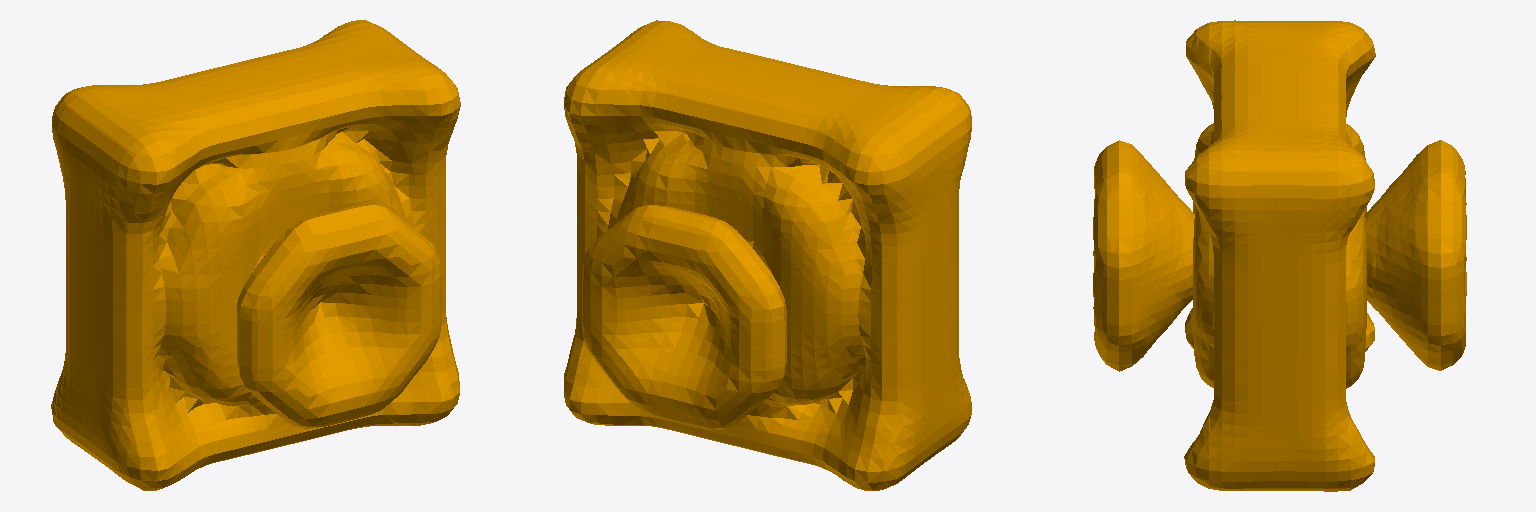
robot.urdf — object:
<?xml version="1.0"?>
        <robot name="object">
          <link name="object">
            <visual>
              <origin xyz="0.0 0.0 0.0"/>
              <geometry>
                <mesh filename="D3.stl" scale="1.00 1.00 1.00"/>
              </geometry>
            </visual>
            <collision>
              <origin xyz="0.0 0.0 0.0"/>
              <geometry>
                <mesh filename="D3.stl" scale="1.00 1.00 1.00"/>
              </geometry>
            </collision>
          </link>
        </robot>

--- Render facts (derived) ---
3 views of the same robot in one strip: view 1: azimuth 30°, elevation 25°; view 2: azimuth 150°, elevation 25°; view 3: azimuth 270°, elevation 25° (orthographic).
Model object with 1 links and 0 joints (none), rooted at object, posed every joint at zero.
Links seen in each view (by area): view 1: object; view 2: object; view 3: object.
Link boxes in pixels (<box>): object: <box>51,20,460,490</box>; object: <box>564,20,971,490</box>; object: <box>1093,20,1466,491</box>.
Size in the robot's own frame: 0.1001 by 0.0994 by 0.1 metres.
1 mesh visuals loaded from 1 distinct referenced files (1 binary STL).